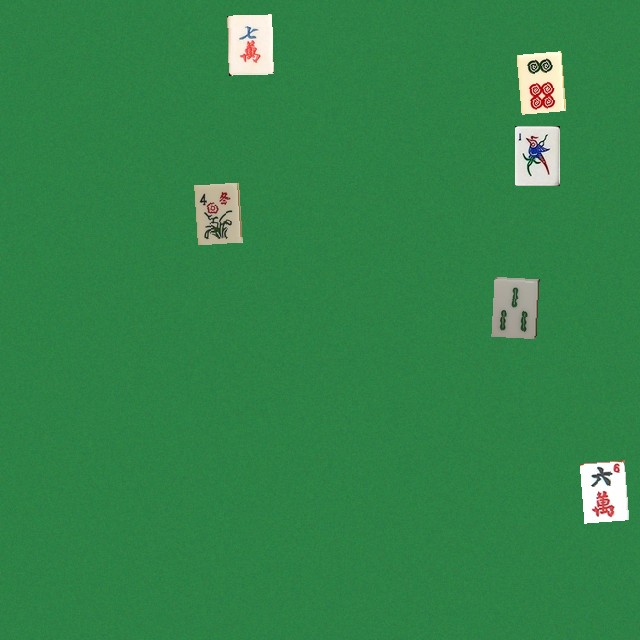tile: (579, 460, 624, 520), (491, 276, 536, 336), (516, 51, 561, 111), (514, 125, 559, 185), (194, 182, 239, 242), (227, 14, 272, 74)
